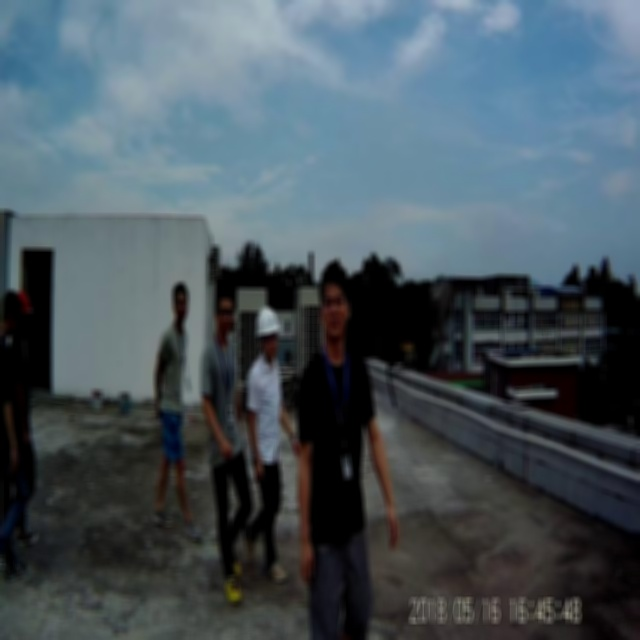Con_Casco: (255, 307, 282, 358)
Sin_Casco_Mascarrilla: (318, 259, 354, 337)
Sin_Chaleco: (296, 351, 370, 546), (248, 360, 284, 469)
